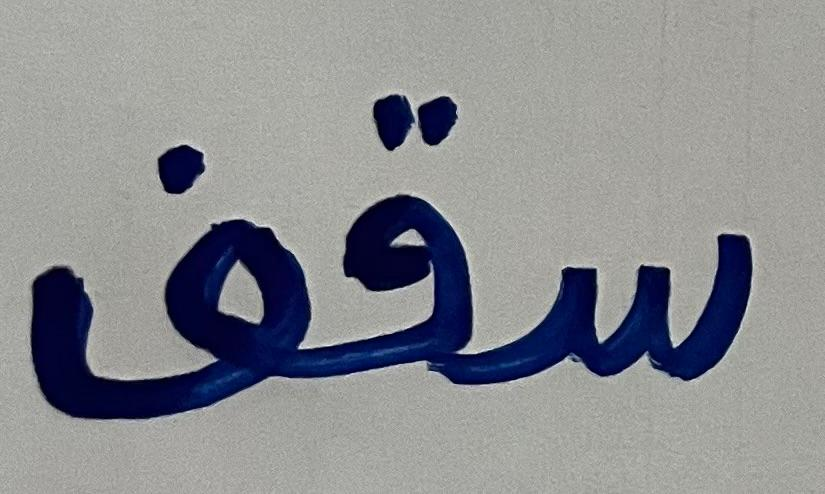feh: (29, 64, 315, 470)
qaf: (318, 43, 499, 435)
seen: (510, 101, 778, 450)
